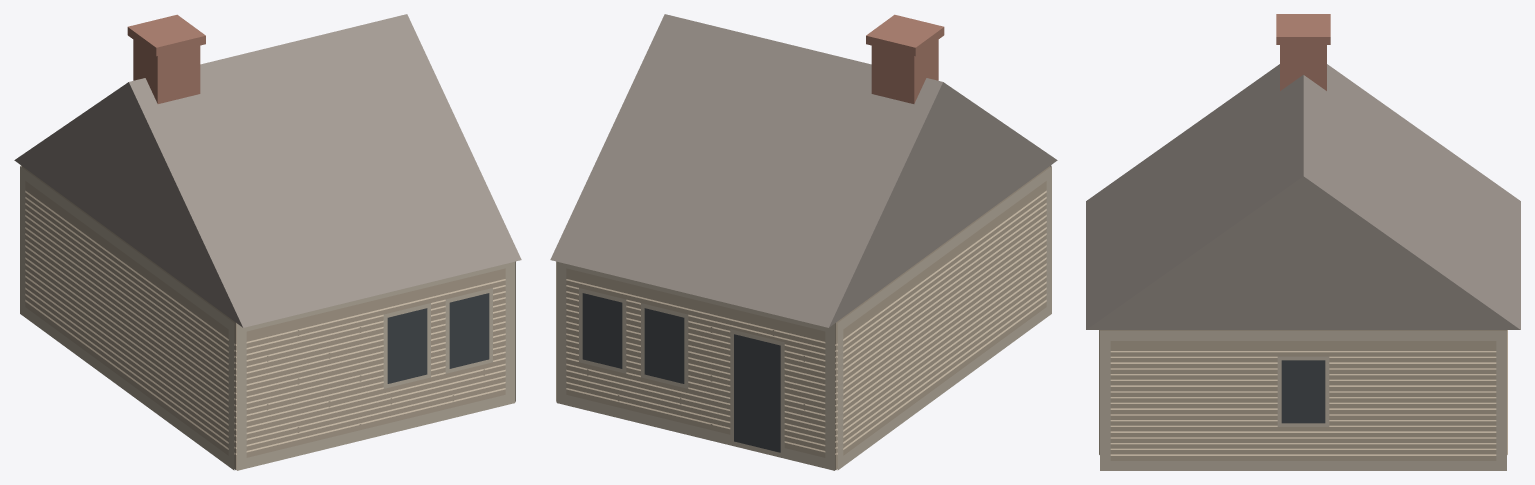
The model's file is inf_brickmaker_dwelling_north__inferred_1835.glb.
3 views of the same model, side by side, from view 1: azimuth 30°, elevation 25°; view 2: azimuth 150°, elevation 25°; view 3: azimuth 270°, elevation 25° (orthographic). The views are drawn at different scales.
Visible parts, largest first — view 1: inf_brickmaker_dwelling_north__inferred_1835; view 2: inf_brickmaker_dwelling_north__inferred_1835; view 3: inf_brickmaker_dwelling_north__inferred_1835.
Boxes of the visible parts, left/top/right/bottom form: inf_brickmaker_dwelling_north__inferred_1835: left=14, top=14, right=521, bottom=470; inf_brickmaker_dwelling_north__inferred_1835: left=550, top=14, right=1057, bottom=470; inf_brickmaker_dwelling_north__inferred_1835: left=1086, top=14, right=1520, bottom=470.
Size of the model in its own units: 5.57 by 6.61 by 7.82.
